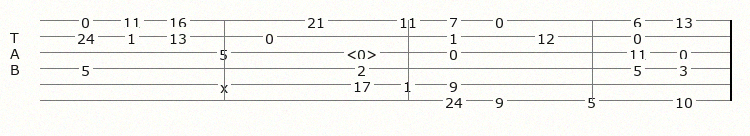0: (81, 13, 94, 27), (265, 29, 278, 43), (449, 45, 462, 59), (495, 13, 508, 27), (633, 29, 646, 43), (679, 45, 692, 59)
1: (127, 29, 140, 43), (403, 77, 416, 91), (449, 29, 462, 43)
10: (675, 93, 697, 107)
11: (123, 13, 145, 27), (399, 13, 421, 27), (629, 45, 651, 59)
12: (537, 29, 559, 43)
13: (169, 29, 191, 43), (675, 13, 697, 27)
16: (169, 13, 191, 27)
17: (353, 77, 375, 91)
2: (357, 61, 370, 75)
21: (307, 13, 329, 27)
24: (77, 29, 99, 43), (445, 93, 467, 107)
3: (679, 61, 692, 75)
5: (81, 61, 94, 75), (219, 45, 232, 59), (587, 93, 600, 107), (633, 61, 646, 75)
6: (633, 13, 646, 27)
7: (449, 13, 462, 27)
9: (449, 77, 462, 91), (495, 93, 508, 107)
harmonic: (346, 45, 381, 59)
x: (220, 78, 232, 90)
